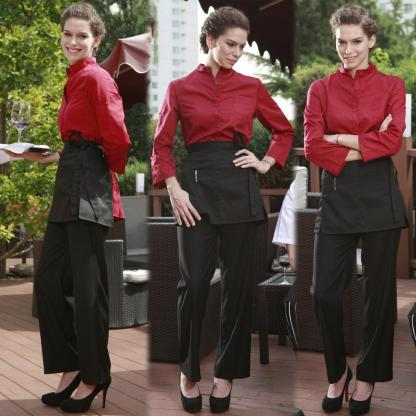face: (338, 25, 372, 69), (214, 26, 246, 70), (62, 22, 94, 64)
